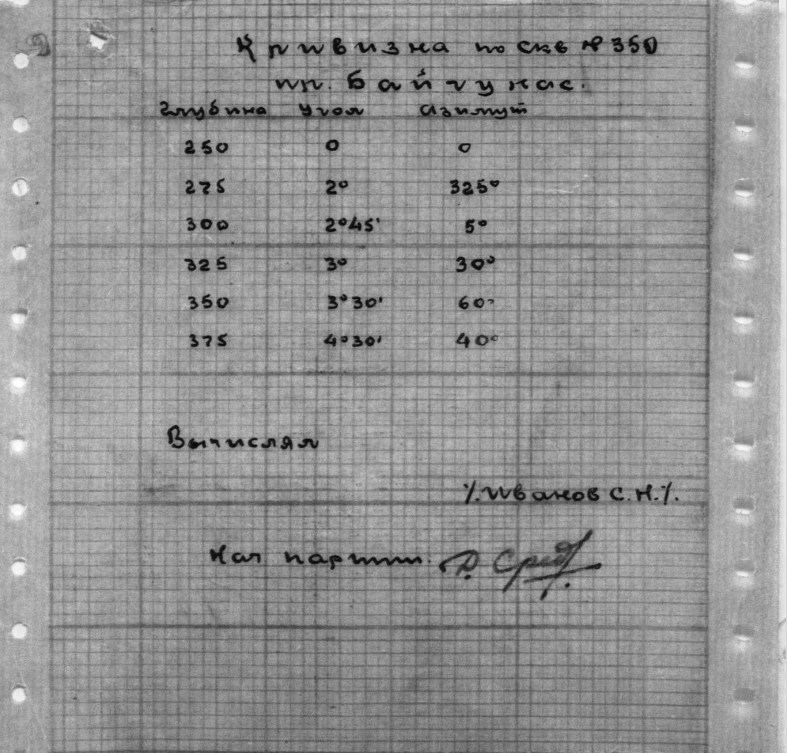Borderless: (154, 96, 520, 357)
